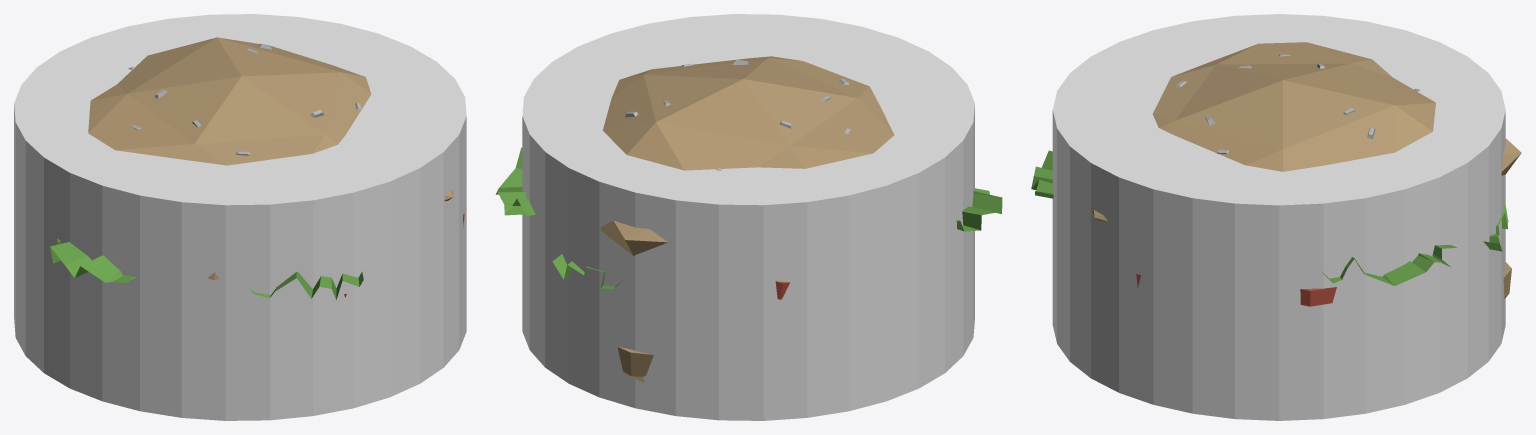
The model's file is Burger.glb.
3 views of the same model, side by side, from view 1: azimuth 30°, elevation 25°; view 2: azimuth 150°, elevation 25°; view 3: azimuth 270°, elevation 25° (orthographic).
Parts seen in each view (by area): view 1: Cylinder.001, Burger; view 2: Cylinder.001, Burger; view 3: Cylinder.001, Burger.
Boxes of the visible parts, x1=… form: Cylinder.001: x1=14, y1=14, x2=466, y2=420; Burger: x1=50, y1=37, x2=464, y2=299; Cylinder.001: x1=522, y1=14, x2=974, y2=420; Burger: x1=495, y1=56, x2=1002, y2=382; Cylinder.001: x1=1052, y1=14, x2=1505, y2=420; Burger: x1=1031, y1=42, x2=1521, y2=306.
Bounding box in the file's own units: 0.1296 × 0.0836 × 0.1334.
